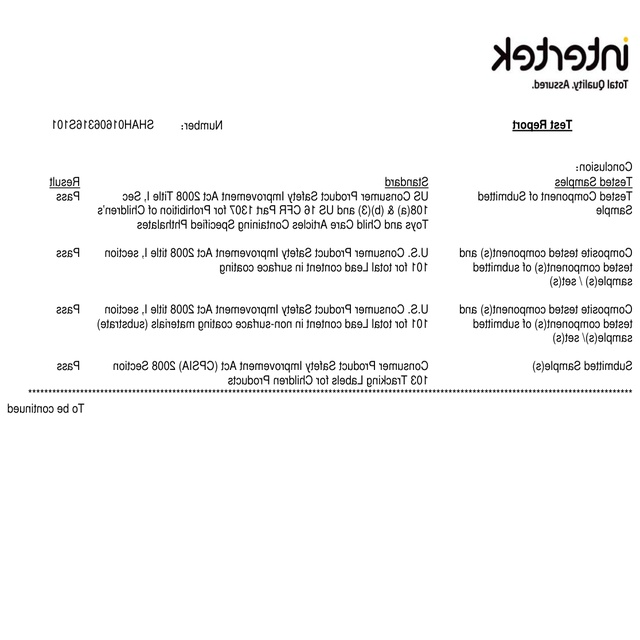intertek: (489, 32, 632, 78)
